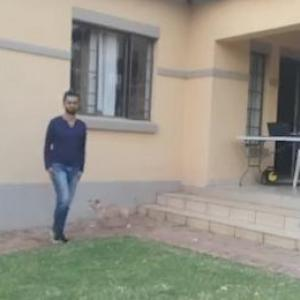follow: (36, 88, 89, 246)
